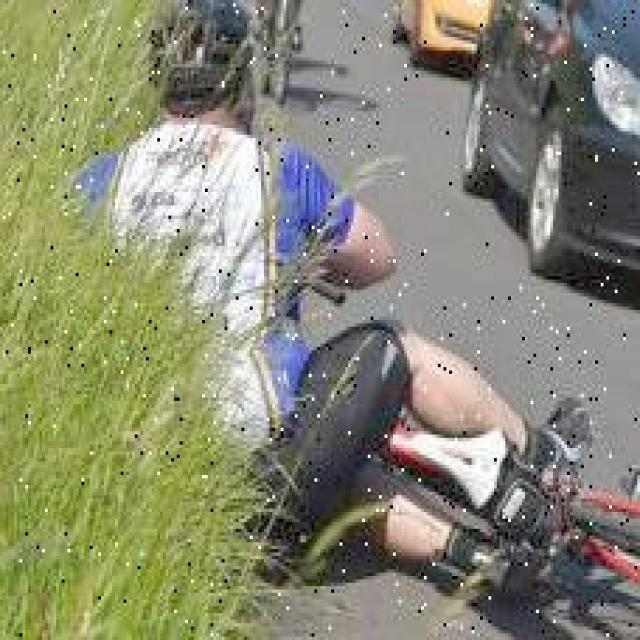fall: (129, 16, 517, 572)
